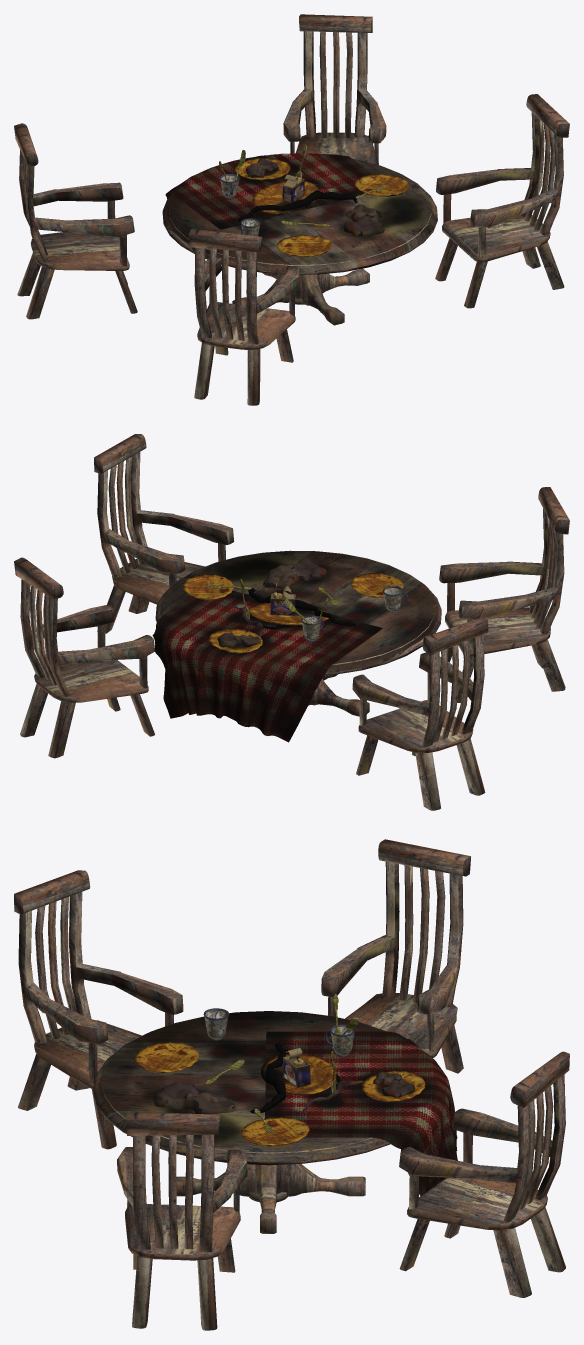
Rendered from tablecap.glb.
3 renders of one model, top to bottom at view 1: azimuth 30°, elevation 25°; view 2: azimuth 150°, elevation 25°; view 3: azimuth 270°, elevation 25°, orthographic. The views are drawn at different scales.
Visible parts, largest first — view 1: Cylinder.002, Cube.003, Cube.006, Cube.005, Cube.002, Plane.005, Cylinder.003, Cylinder.005, Mball.018, Cylinder.017, Cylinder.004, Cylinder.018 (+2 smaller); view 2: Plane.005, Cube.002, Cube.005, Cylinder.002, Cube.003, Cube.006, Mball.018, Cylinder.004, Cylinder.005, Cylinder.003, Cylinder.017, Cylinder.014 (+4 smaller); view 3: Cube.002, Cylinder.002, Cube.006, Cube.003, Cube.005, Plane.005, Cylinder.003, Mball.018, Cylinder.005, Cylinder.004, Cylinder.017, Cylinder.014 (+5 smaller).
Boxes of the visible parts, x1,y1,x2,y2 form: Cylinder.002: (162,159,437,274); Cube.003: (435,94,569,308); Cube.006: (188,228,299,405); Cube.005: (14,123,137,319); Cube.002: (283,14,386,164); Plane.005: (165,153,372,229); Cylinder.003: (232,268,369,325); Cylinder.005: (277,235,332,256); Mball.018: (344,204,384,236); Cylinder.017: (252,181,318,213); Cylinder.004: (355,174,409,196); Cylinder.018: (238,190,356,221); Plane.005: (152,590,382,742); Cube.002: (14,557,154,758); Cube.005: (352,616,488,810); Cylinder.002: (155,550,441,675); Cube.003: (94,434,234,633); Cube.006: (439,487,569,702); Mball.018: (263,558,326,588); Cylinder.004: (183,574,233,599); Cylinder.005: (350,573,403,597); Cylinder.003: (308,674,369,716); Cylinder.017: (248,602,328,625); Cylinder.014: (209,628,262,653); Cube.002: (399,1051,569,1297); Cylinder.002: (93,1011,390,1165); Cube.006: (14,870,183,1149); Cube.003: (117,1112,247,1330); Cube.005: (321,839,470,1073); Plane.005: (264,1031,457,1196); Cylinder.003: (176,1164,365,1233); Mball.018: (153,1081,235,1114); Cylinder.005: (134,1042,199,1072); Cylinder.004: (241,1117,309,1146); Cylinder.017: (261,1054,336,1094); Cylinder.014: (362,1070,425,1101).
Size of the model in its own units: 3.68 by 1.34 by 3.13.
11 materials, 11 textured.
